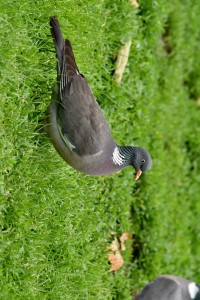pigeon: (35, 13, 154, 181)
